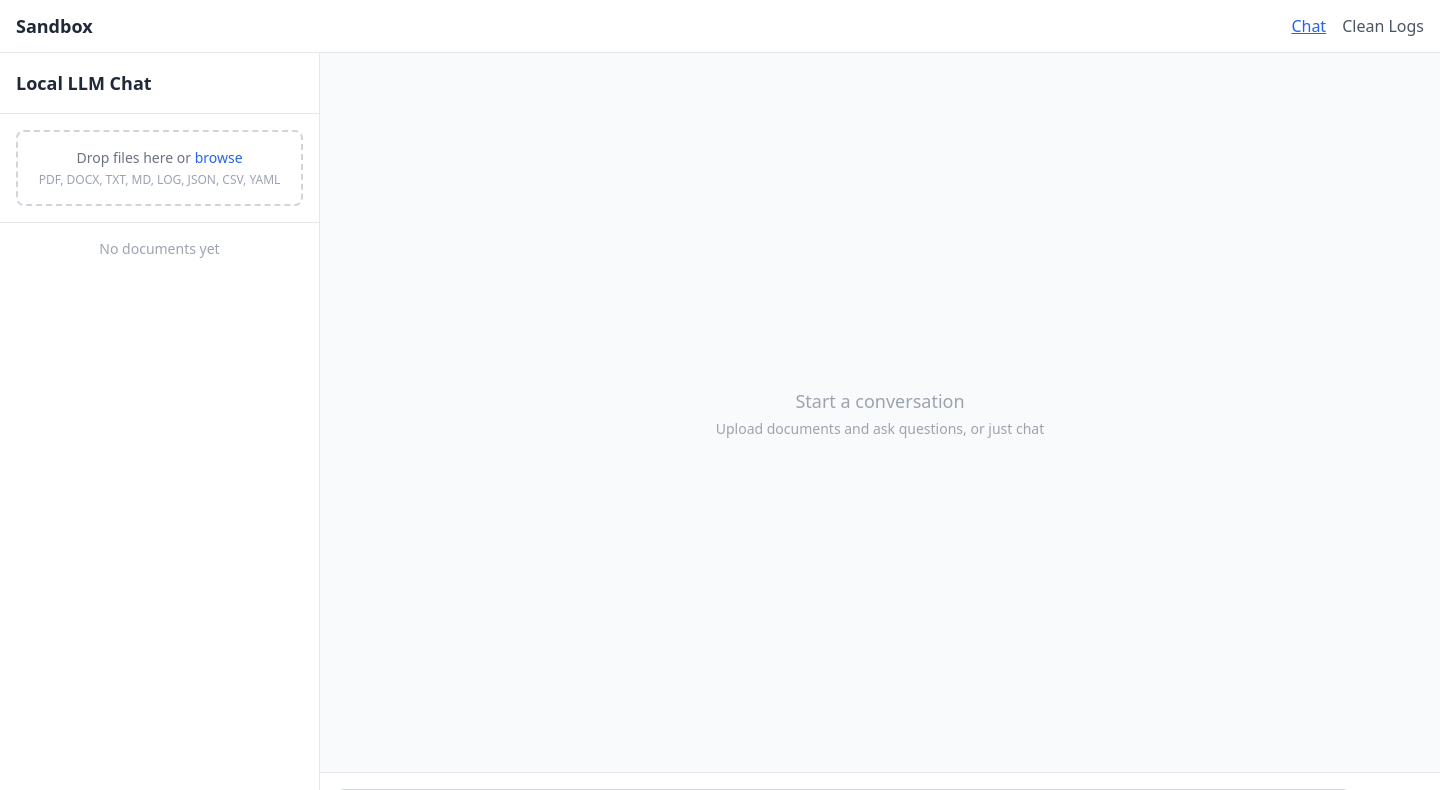
Test: Navigation › navigates to Clean Logs when link is clicked
Click the link "Clean Logs" at point(1383, 26), box [1342,14,1424,38]
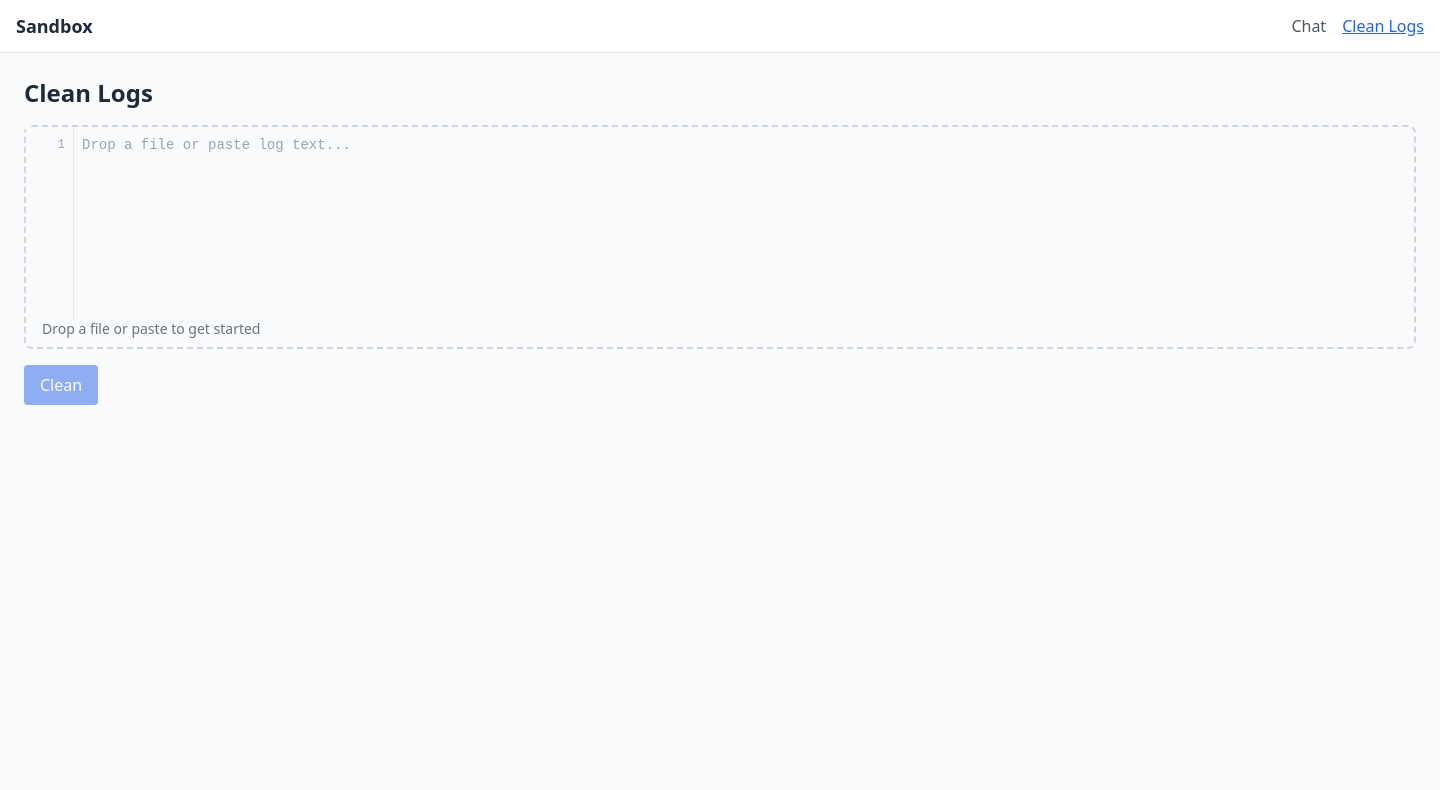
Expected: the heading "Clean Logs" is shown, [24,76,153,109]
Expected: the text box with placeholder "Drop a file or paste log text..." is shown, [74,127,1414,319]
